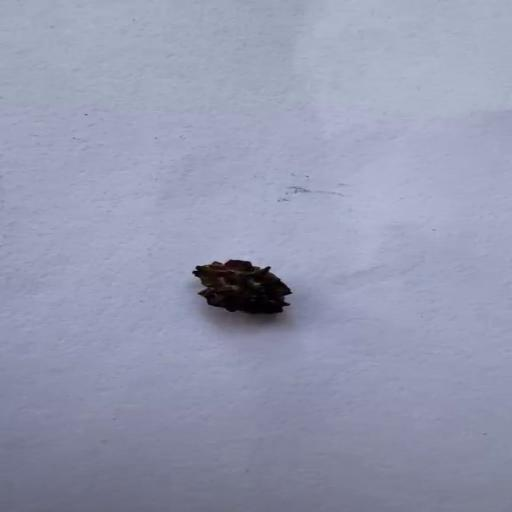papaya_seed: (190, 257, 294, 315)
